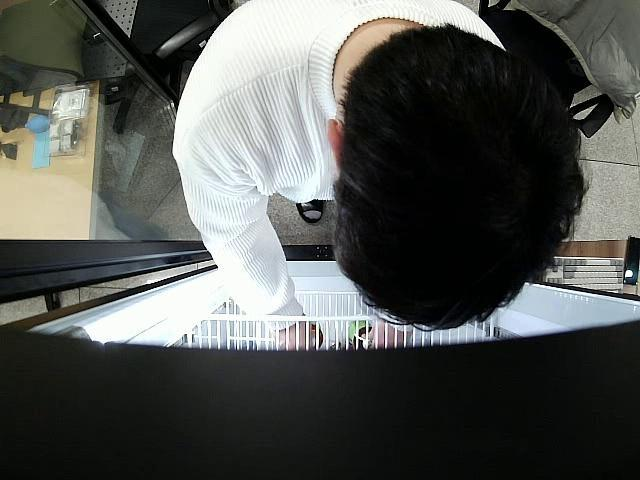19_17cha: (344, 322, 376, 352)
